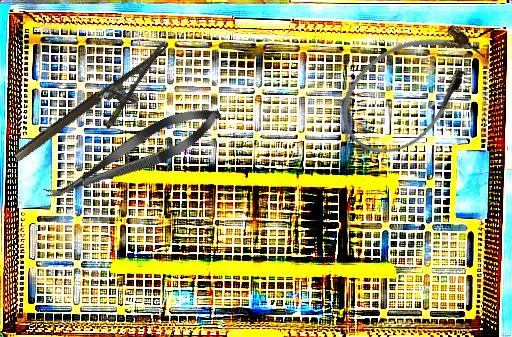Cannula: (321, 4, 501, 173)
Micro Scissor: (38, 95, 228, 215)
Needle Holder: (11, 41, 187, 183)
